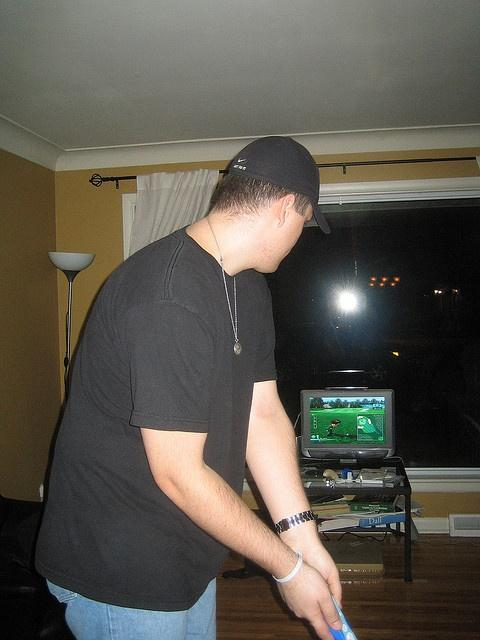AIO PC-Monitor-TV: (299, 389, 395, 463)
